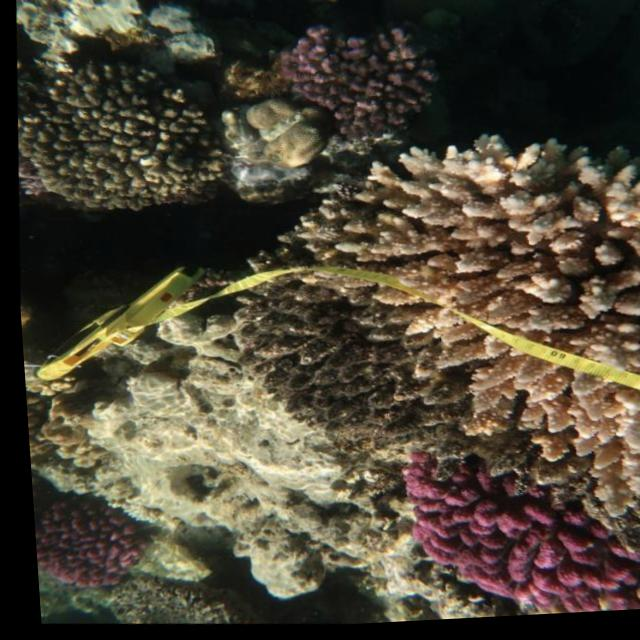Dead Coral: (240, 276, 387, 443)
Healthy Coral: (387, 125, 640, 446), (372, 442, 633, 626), (265, 8, 449, 142), (25, 480, 136, 596)
